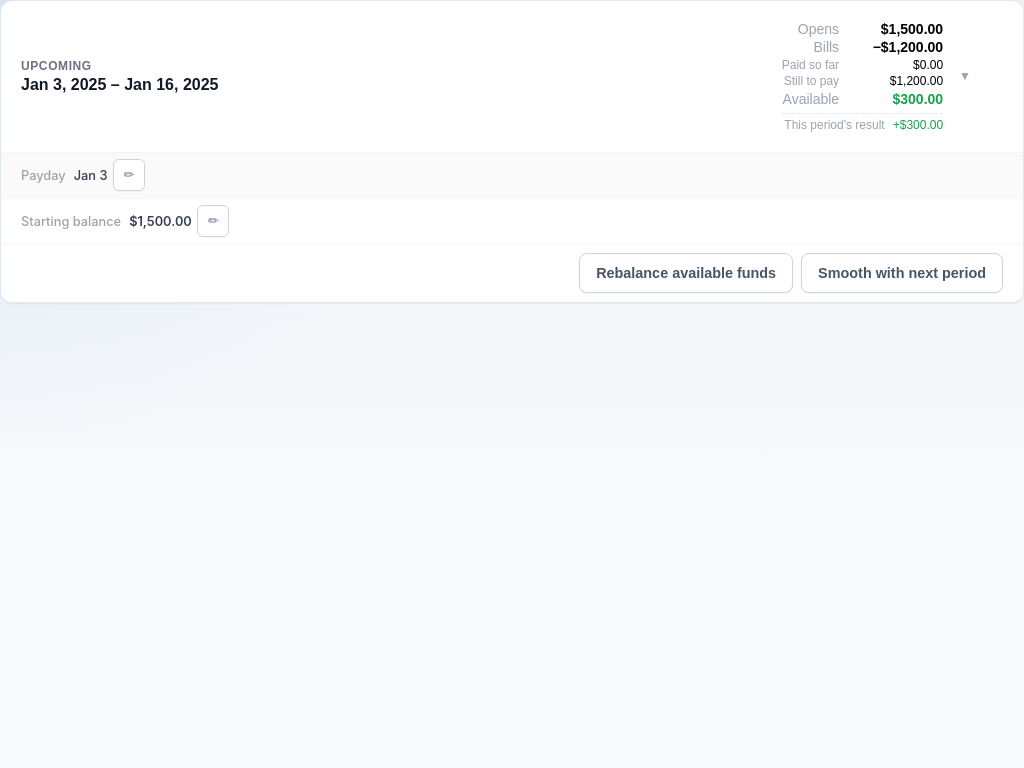
Test case: PeriodCard - explicit rebalance › shows an empty preview when no future bills are eligible
Click the button "Rebalance available funds" at (686, 273), box [579, 253, 793, 293]
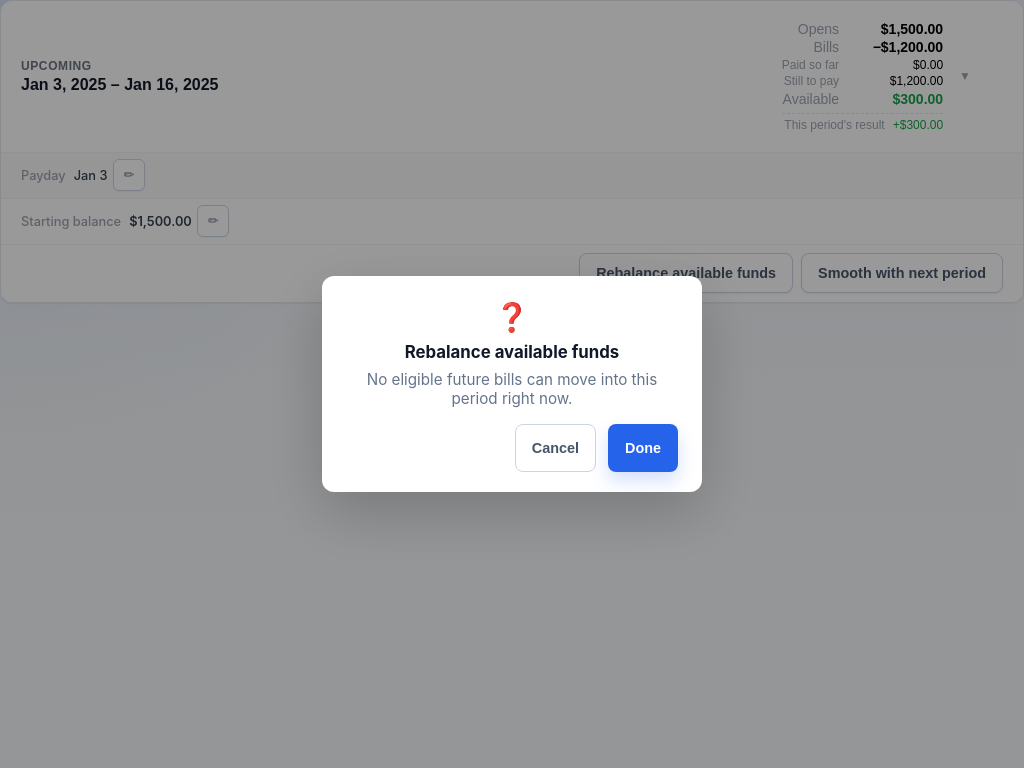
Now the text "No eligible future bills" is shown, box [367, 370, 657, 408]
